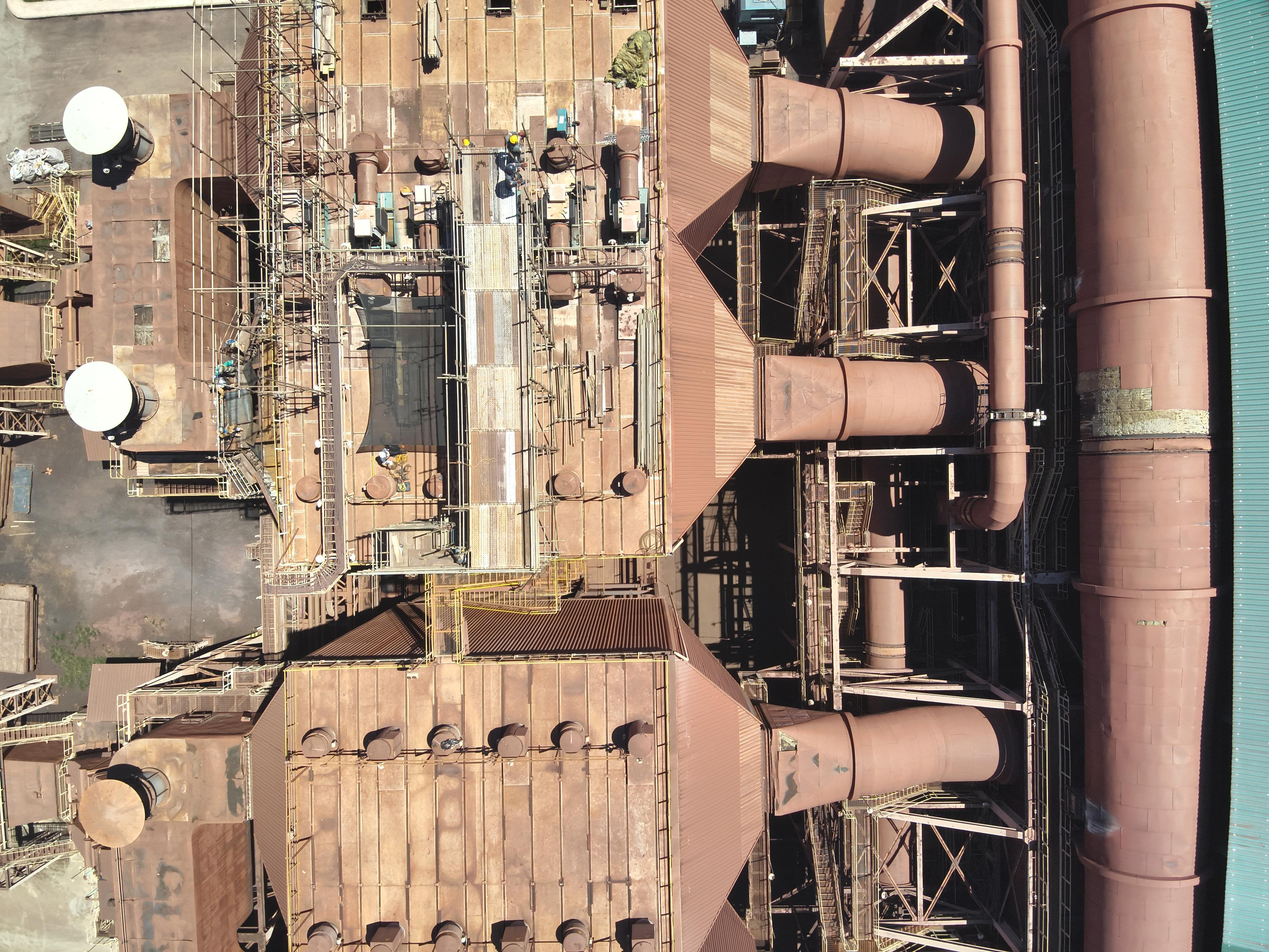Failures: (1072, 364, 1211, 443), (767, 771, 791, 820), (775, 728, 802, 759), (1136, 616, 1171, 632)
